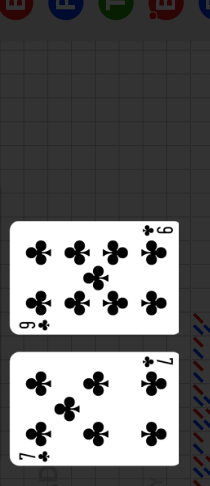7C: (17, 449, 52, 463)
9C: (140, 223, 175, 237)
